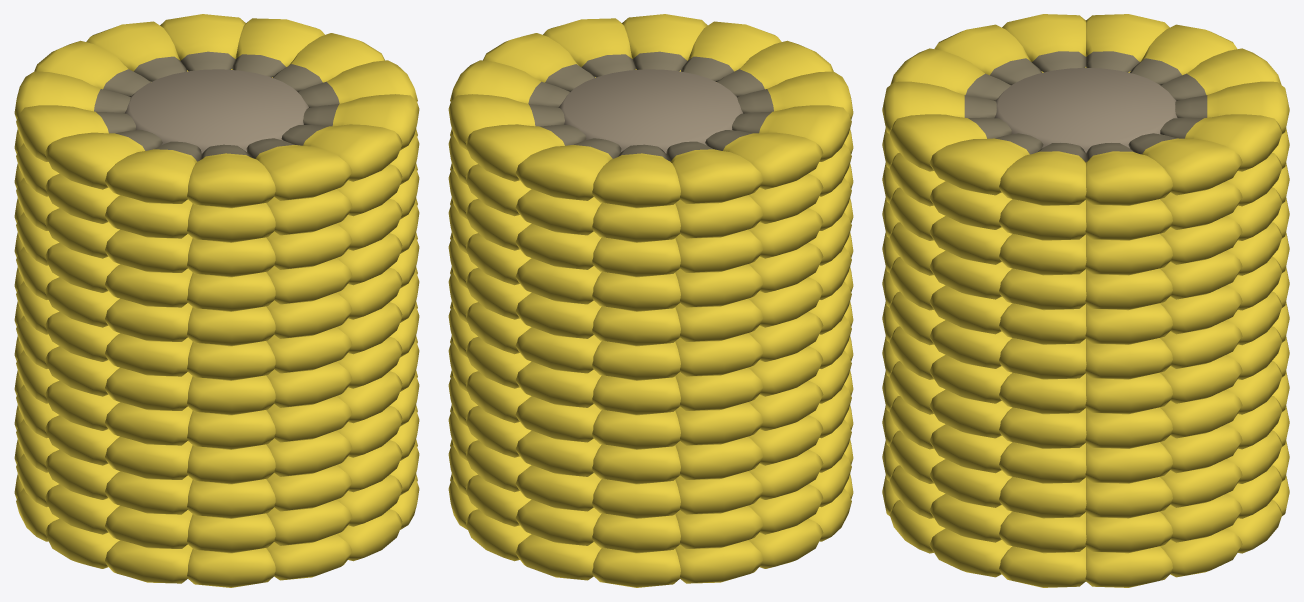
File: Corn.fbx
3 views of the same model, side by side, from view 1: azimuth 30°, elevation 25°; view 2: azimuth 150°, elevation 25°; view 3: azimuth 270°, elevation 25° (orthographic).
Visible parts, largest first — view 1: Corn; view 2: Corn; view 3: Corn.
Boxes of the visible parts, x1=… form: Corn: x1=14, y1=14, x2=419, y2=587; Corn: x1=448, y1=14, x2=853, y2=587; Corn: x1=882, y1=14, x2=1289, y2=587.
Size of the model in its own units: 85.14 by 96.13 by 85.24.
